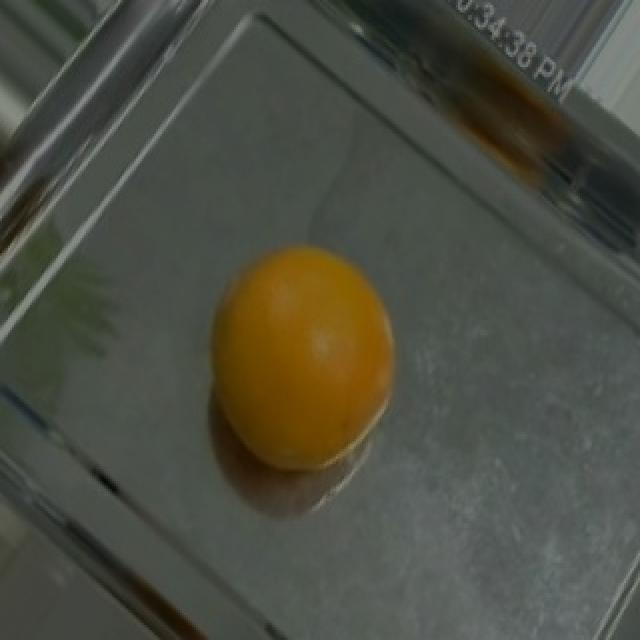Fruit: (188, 236, 426, 496)
